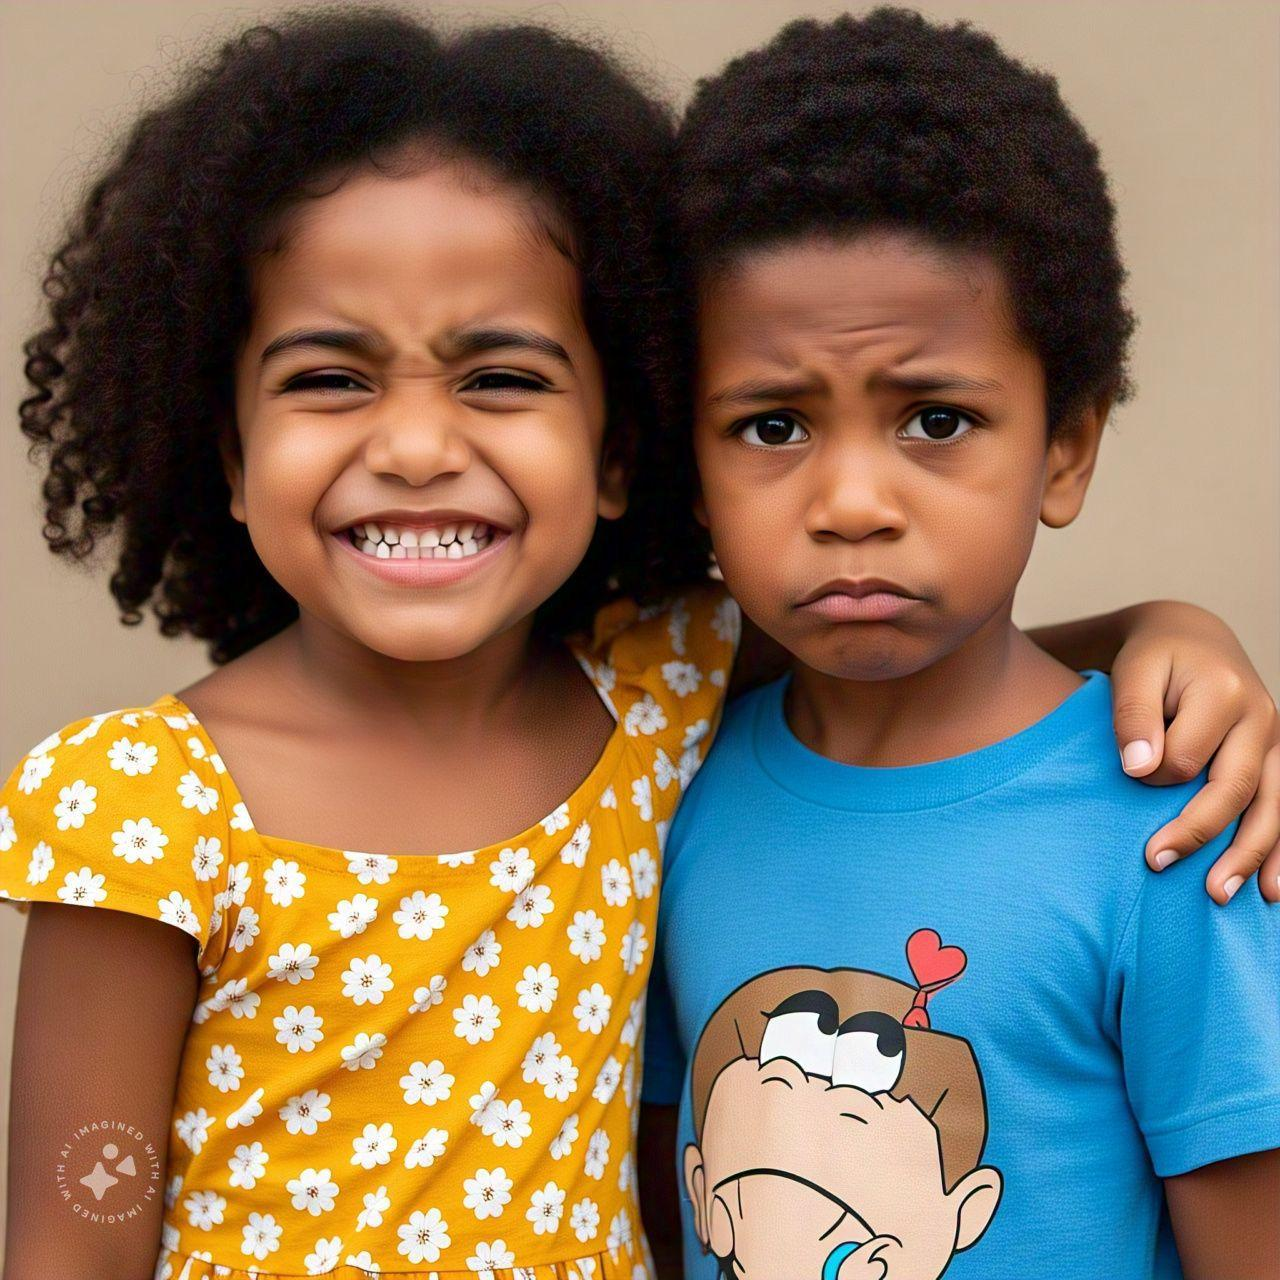feliz: (212, 86, 620, 651)
triste: (696, 54, 1073, 694)
